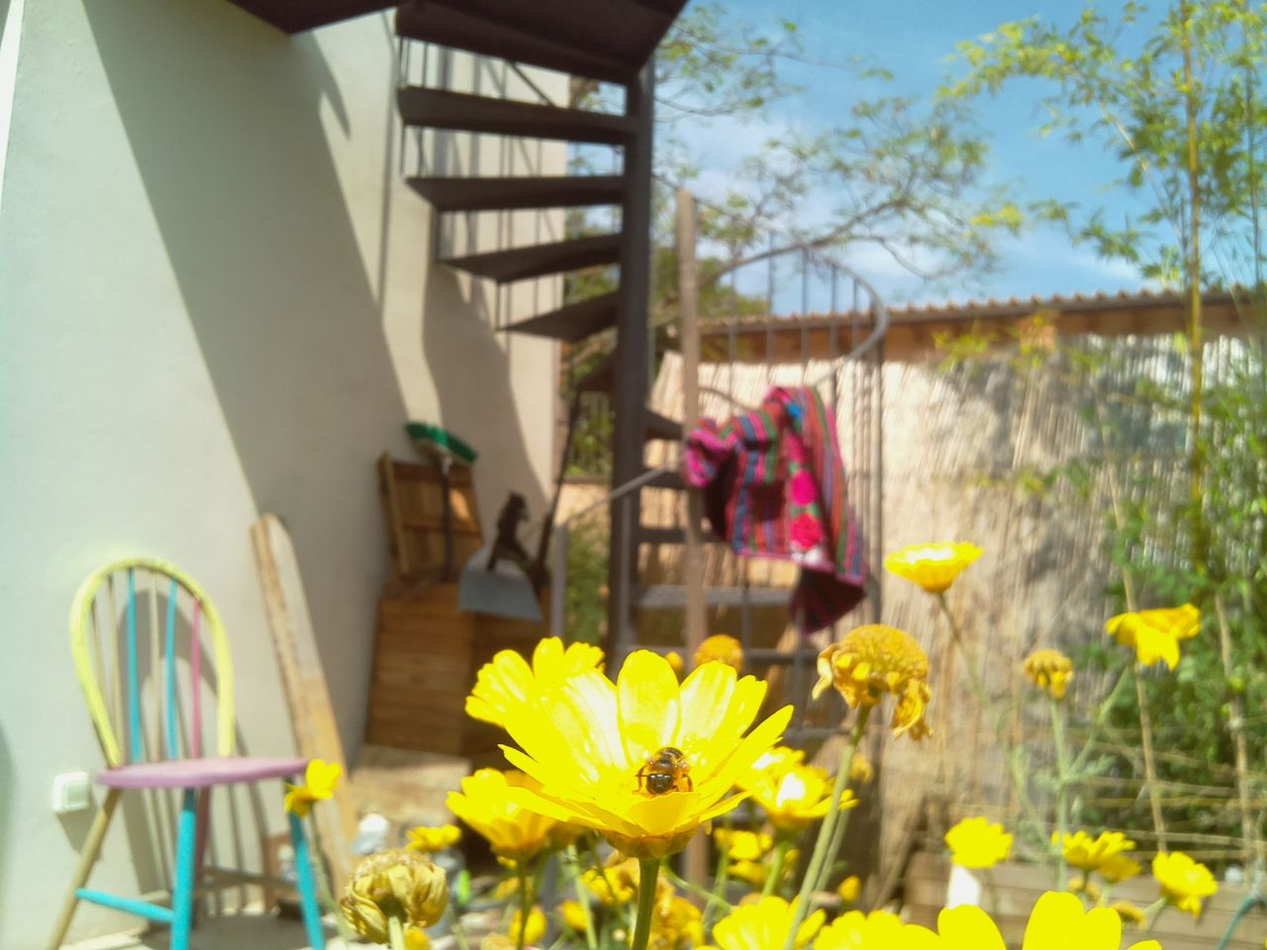Eucera: (631, 739, 710, 810)
